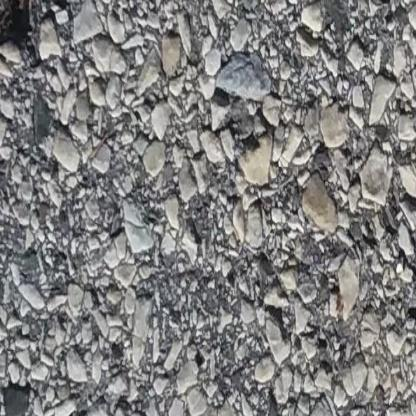Cracks: (0, 0, 59, 73)
